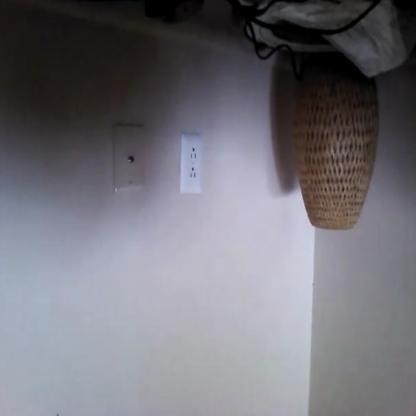OUTLET: (180, 132, 202, 194)
